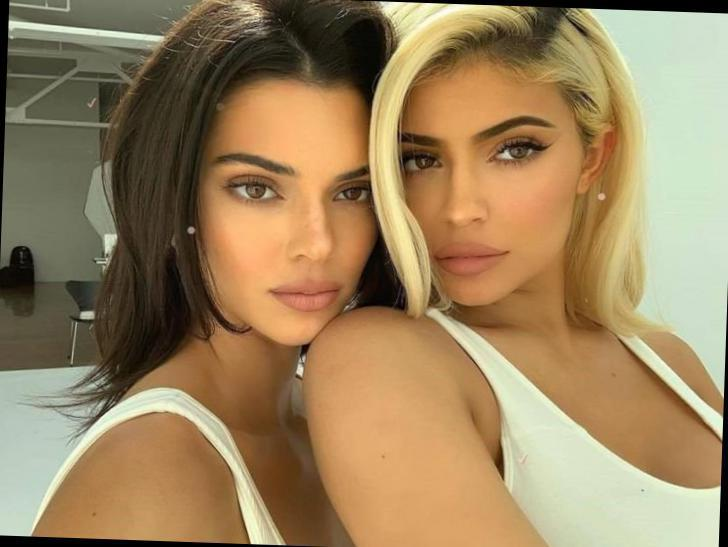Sober: (207, 93, 370, 320), (409, 83, 560, 297)
